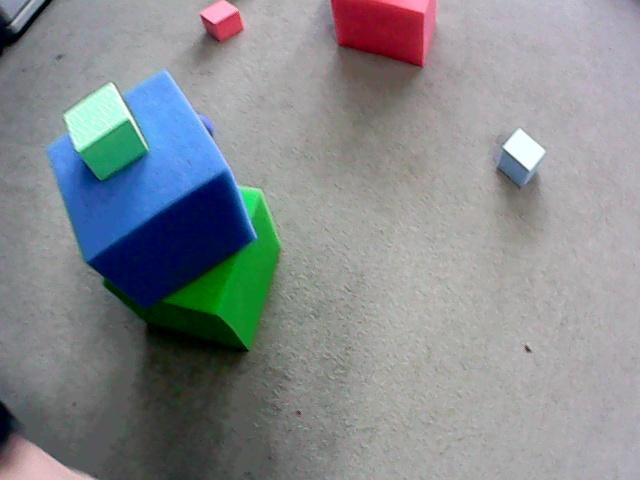blue_block: (48, 70, 255, 306), (497, 129, 544, 186), (498, 150, 531, 186), (199, 114, 214, 136)
red_block: (331, 0, 436, 66), (200, 0, 242, 41)
